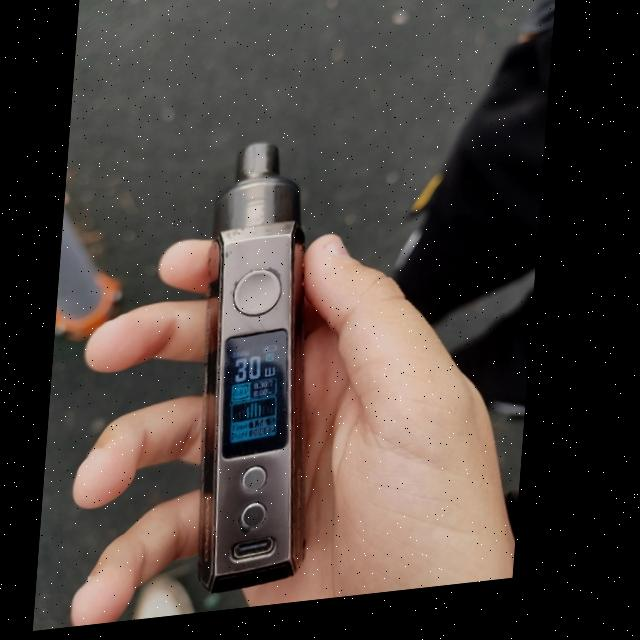vape: (198, 141, 336, 600)
